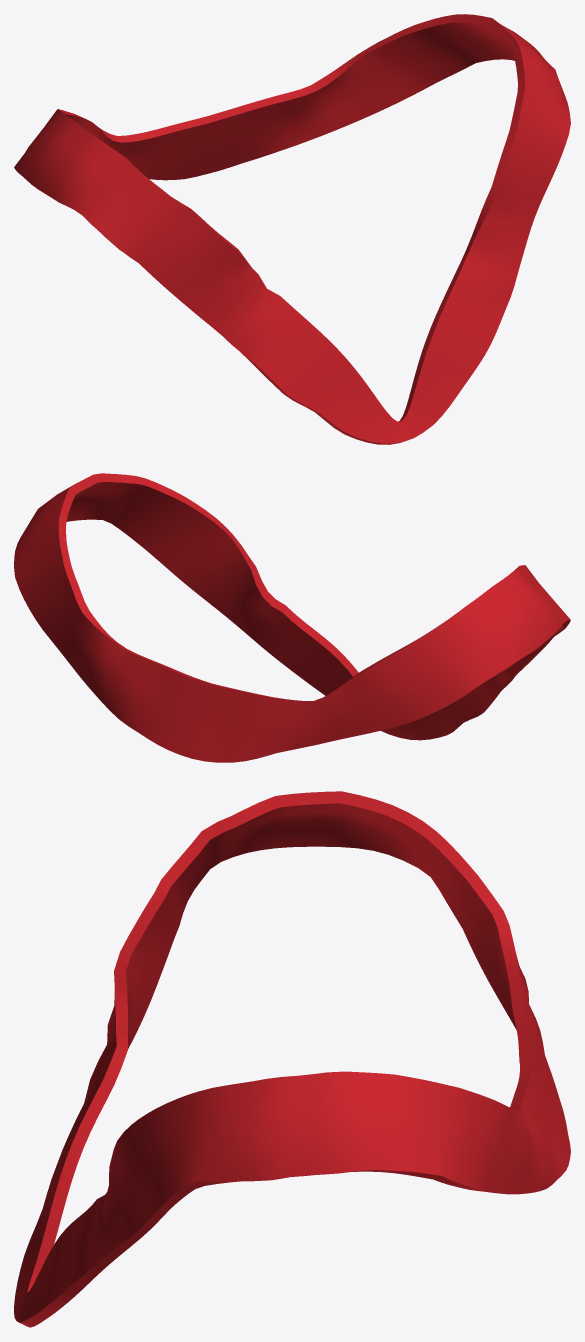
Rendered from WornMedal_Ribbon_SkinnyFat.glb.
3 views of the same model, one above another, from view 1: azimuth 30°, elevation 25°; view 2: azimuth 150°, elevation 25°; view 3: azimuth 270°, elevation 25° (orthographic). The views are drawn at different scales.
Parts seen in each view (by area): view 1: WornMedal_Ribbon_SkinnyFat; view 2: WornMedal_Ribbon_SkinnyFat; view 3: WornMedal_Ribbon_SkinnyFat.
Part boxes in pixels (x1,y1,x2,y2): WornMedal_Ribbon_SkinnyFat: (14,14,570,444); WornMedal_Ribbon_SkinnyFat: (14,473,570,762); WornMedal_Ribbon_SkinnyFat: (14,791,570,1327).
Bounding box in the file's own units: 1.58 × 0.8561 × 1.11.
